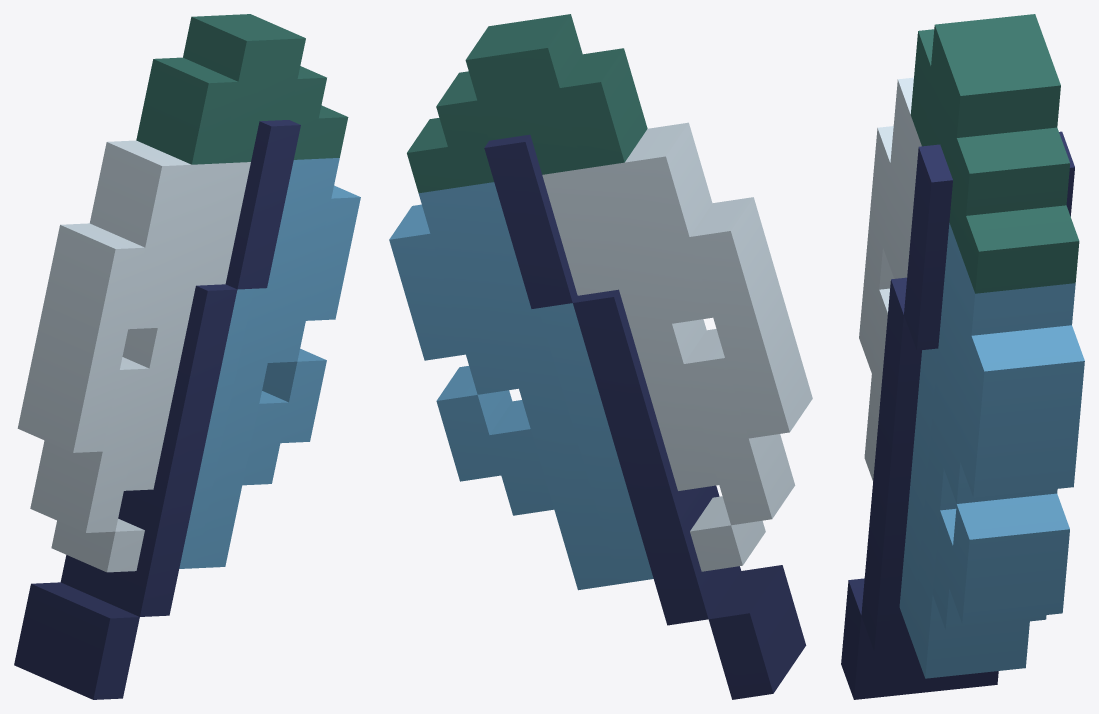
File: item_feather.glb
The picture shows the model from 3 angles, left to right: view 1: azimuth 30°, elevation 25°; view 2: azimuth 150°, elevation 25°; view 3: azimuth 270°, elevation 25°; orthographic projection. The views are drawn at different scales.
Parts seen in each view (by area): view 1: item_feather; view 2: item_feather; view 3: item_feather.
Boxes of the visible parts, x1,y1,x2,y2 form: item_feather: [14, 14, 360, 699]; item_feather: [389, 14, 812, 699]; item_feather: [841, 14, 1084, 699].
Size of the model in its own units: 0.7138 by 1.15 by 0.3296.
